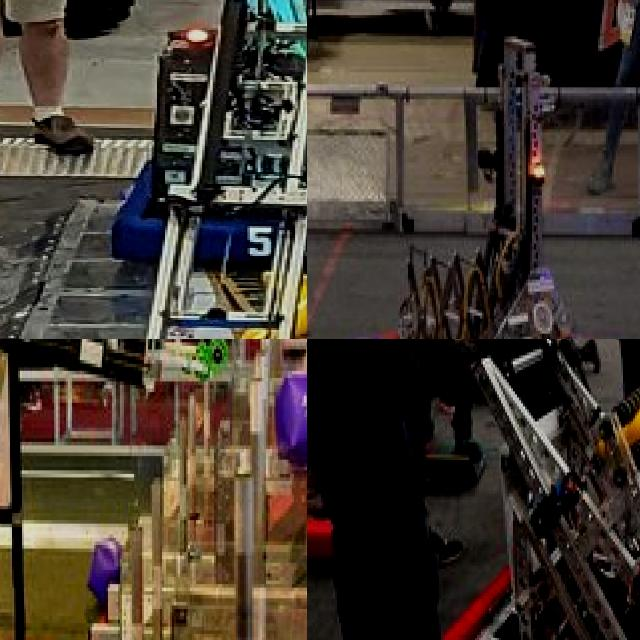FRC-Robots: (307, 0, 640, 339), (0, 0, 307, 339), (0, 339, 241, 640), (407, 339, 640, 640), (125, 0, 307, 274)
